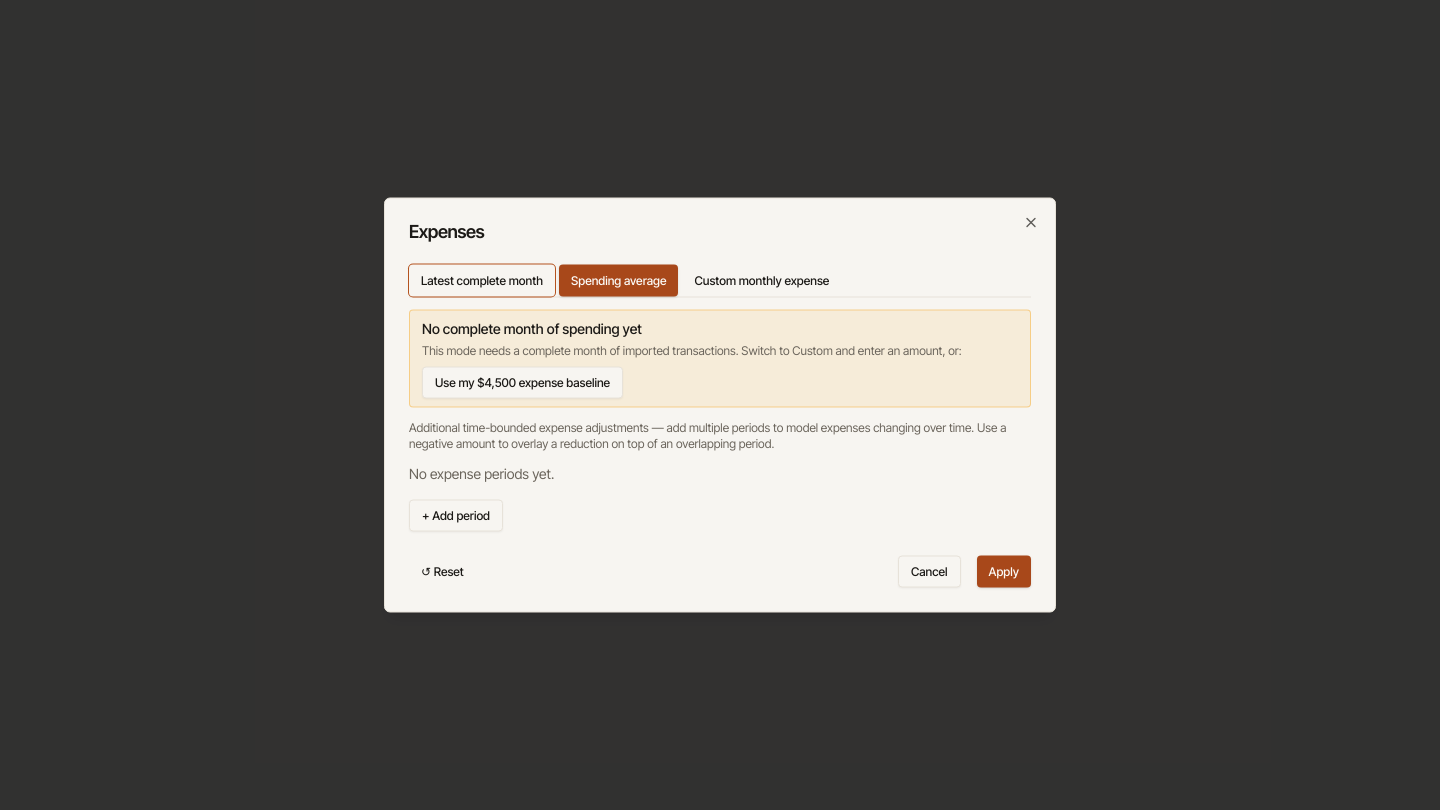
Test: ExpensePeriodsPopover — expense-source selector (Task 8) › HARD-GATED empty-data state: a data mode with no spending surfaces the no-data notice + a one-tap baseline prefill
Expected: the text "No complete month of spending yet" is shown, [422,320,642,336]
Expected: the text "This mode needs a complete month of imported transactions. Switch to Custom and enter an amount, or:" is shown, [422,342,962,358]
Step 1. Click the button "Use my $4,500 expense baseline" → (523, 382), box [422,366,623,398]
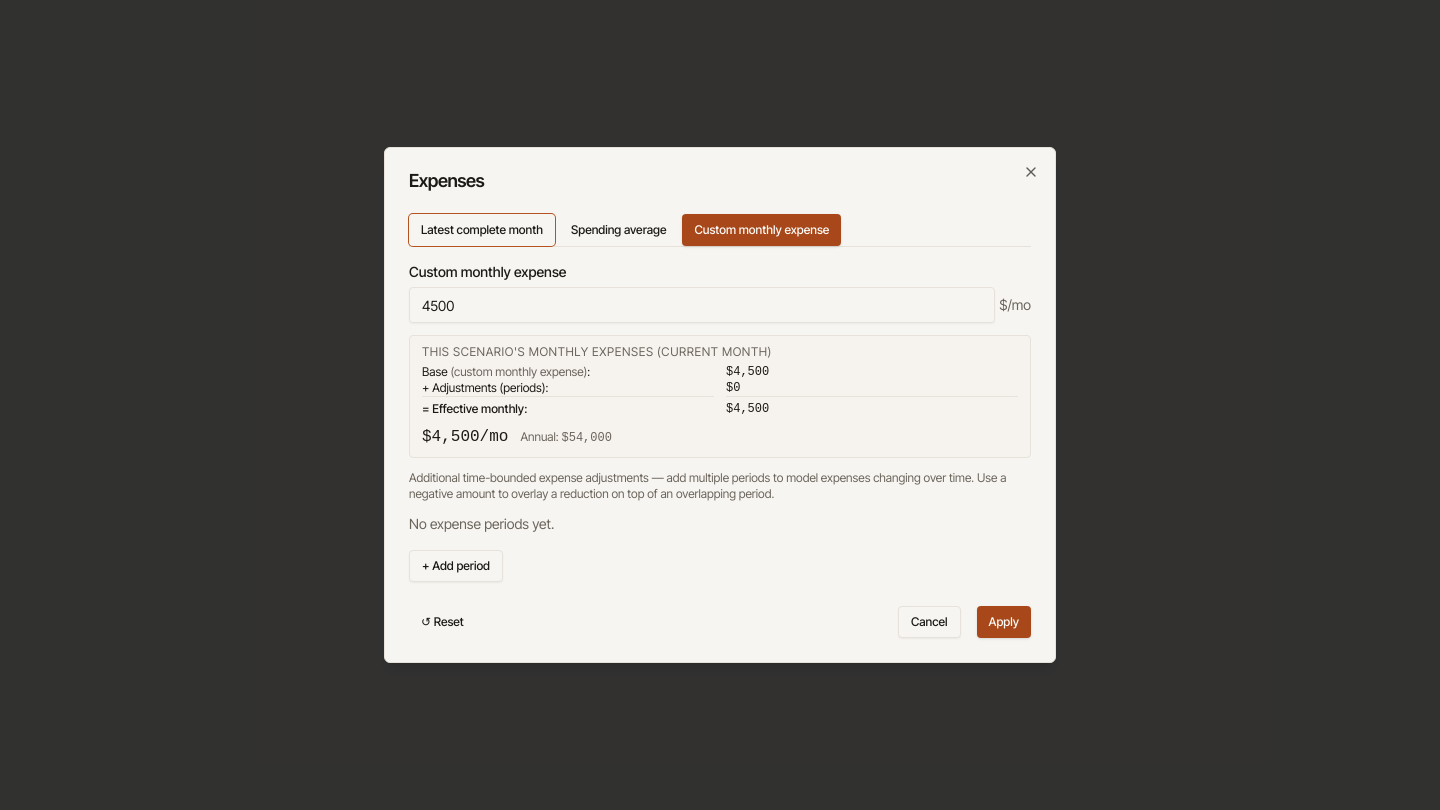
Expected: the text with test id "expense-base" shows "4,500", [726,365,769,379]
